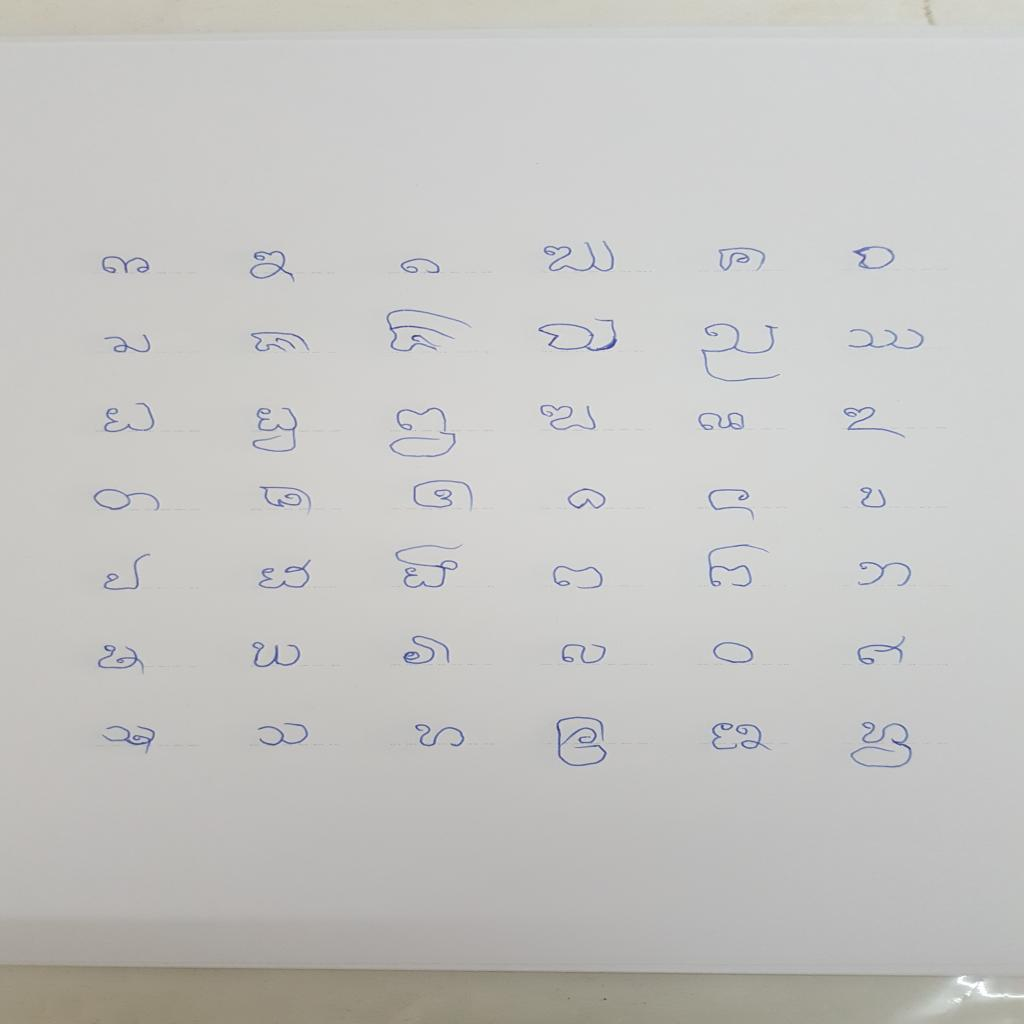LN001: (96, 254, 157, 278)
LN003: (396, 257, 448, 277)
LN004: (538, 238, 622, 277)
LN005: (712, 245, 773, 277)
LN006: (847, 245, 901, 274)
LN007: (98, 332, 158, 357)
LN008: (243, 329, 318, 357)
LN010: (532, 316, 625, 356)
LN011: (695, 320, 787, 387)
LN012: (842, 326, 930, 353)
LN013: (98, 400, 163, 436)
LN014: (247, 404, 303, 456)
LN015: (384, 406, 464, 462)
LN016: (536, 402, 604, 435)
LN018: (837, 405, 913, 443)
LN019: (89, 486, 168, 516)
LN020: (252, 482, 320, 518)
LN021: (406, 478, 481, 516)
LN022: (562, 486, 613, 513)
LN023: (704, 487, 761, 525)
LN025: (98, 550, 158, 595)
LN026: (252, 557, 318, 593)
LN027: (391, 542, 469, 593)
LN028: (547, 562, 611, 594)
LN029: (700, 542, 775, 593)
LN030: (851, 559, 919, 592)
LN031: (94, 642, 151, 680)
LN033: (399, 634, 458, 670)
LN035: (707, 639, 762, 668)
LN036: (851, 634, 912, 670)
LN037: (97, 722, 163, 759)
LN038: (252, 720, 315, 751)
LN040: (550, 714, 614, 771)
LN041: (704, 720, 778, 756)
LN042: (845, 719, 920, 772)
